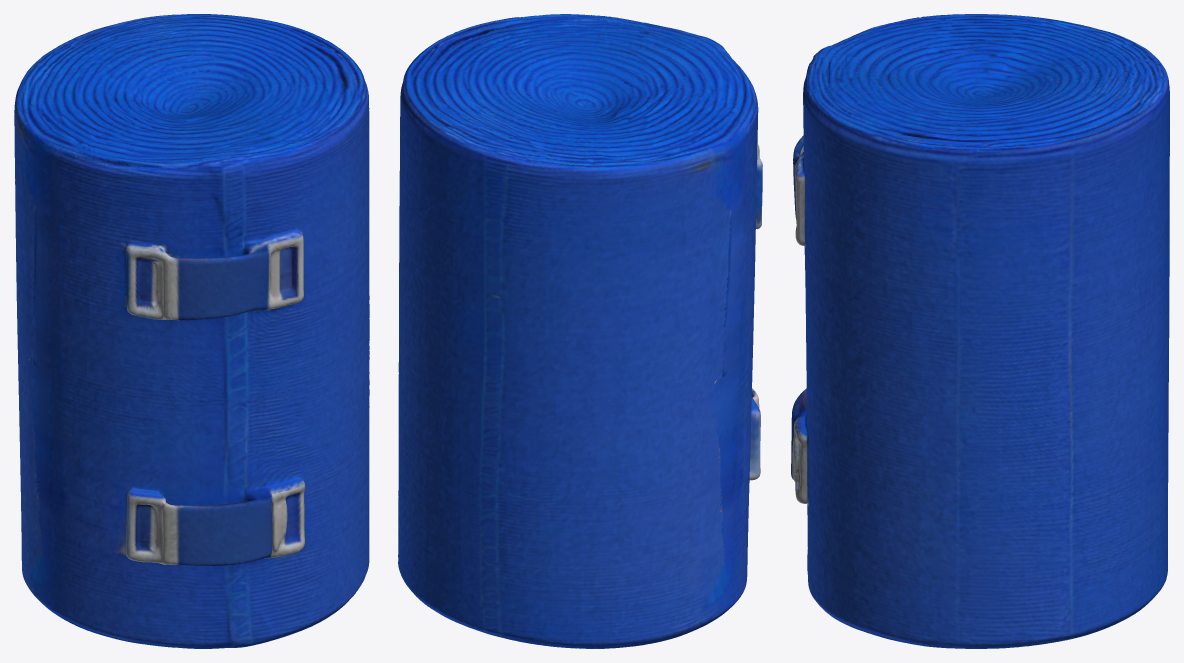
File: Medical Elastic Bandage C.fbx
The picture shows the model from 3 angles, left to right: view 1: azimuth 30°, elevation 25°; view 2: azimuth 150°, elevation 25°; view 3: azimuth 270°, elevation 25°; orthographic projection. The views are drawn at different scales.
Parts seen in each view (by area): view 1: Medical Elastic Bandage C; view 2: Medical Elastic Bandage C; view 3: Medical Elastic Bandage C.
Boxes of the visible parts, bbox=[...] form: Medical Elastic Bandage C: bbox=[14, 14, 369, 648]; Medical Elastic Bandage C: bbox=[398, 14, 762, 648]; Medical Elastic Bandage C: bbox=[791, 14, 1169, 648].
Size of the model in its own units: 3.97 by 6.17 by 4.08.
1 material, 1 textured.
